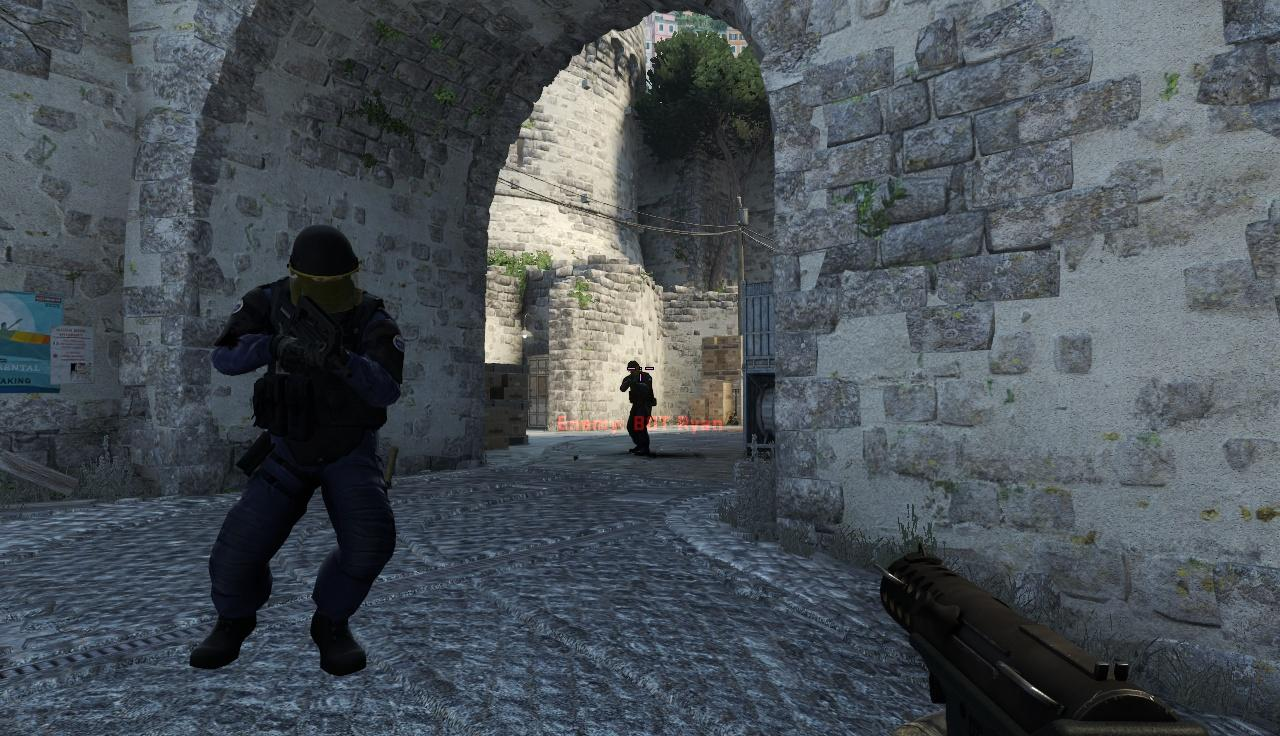ct: (220, 232, 391, 669), (620, 360, 651, 461)
cthead: (288, 225, 361, 306), (628, 361, 643, 377)
rifle: (877, 542, 1195, 736)
